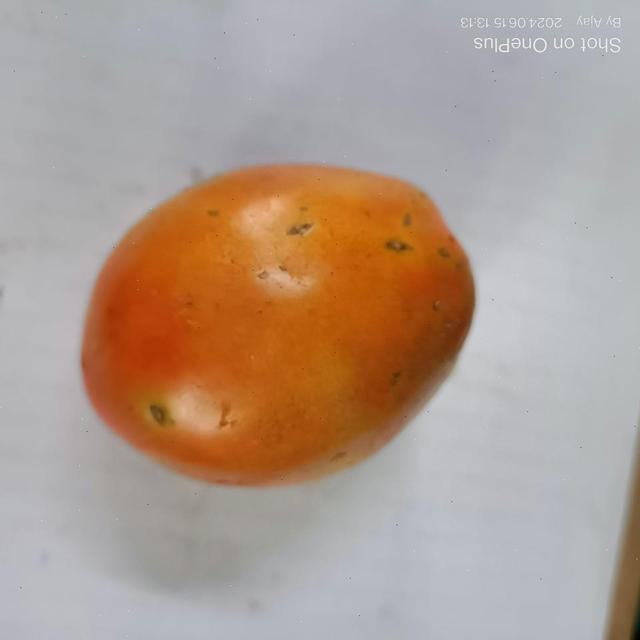Bacterial Spot Fruit: (20, 15, 266, 276)
